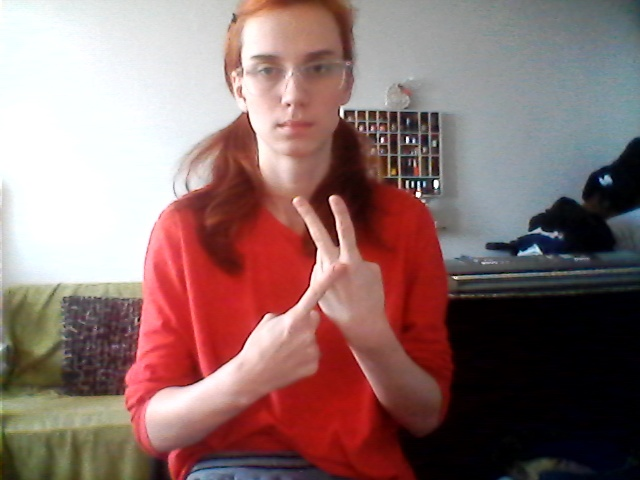y: (224, 189, 401, 398)
